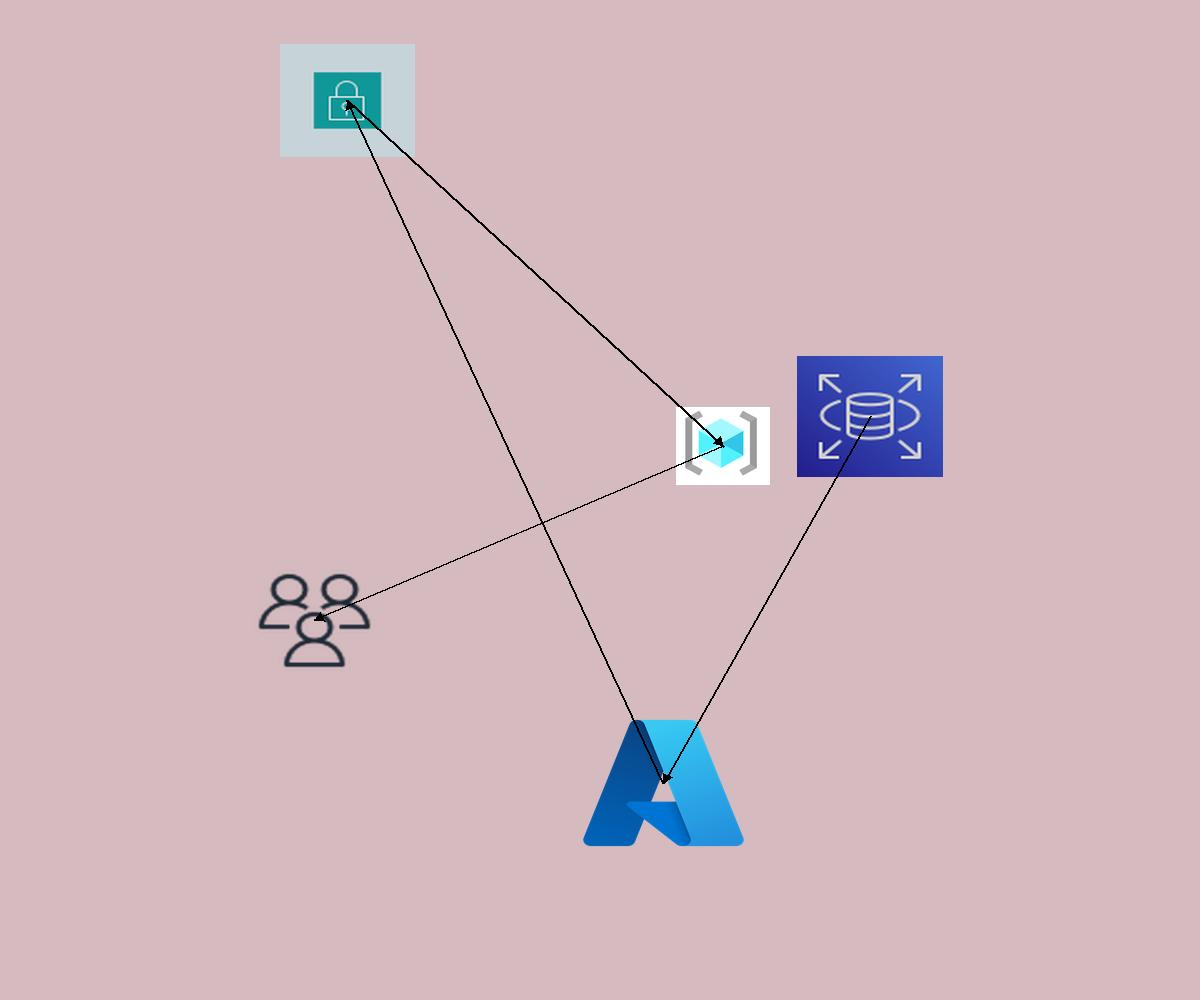AWS-Private-subnet: (280, 44, 415, 157)
AWS-RDS: (797, 356, 943, 477)
AWS-Res_Users: (254, 570, 375, 671)
Azure_resource_group: (676, 407, 770, 485)
Azure_services: (576, 710, 751, 856)
